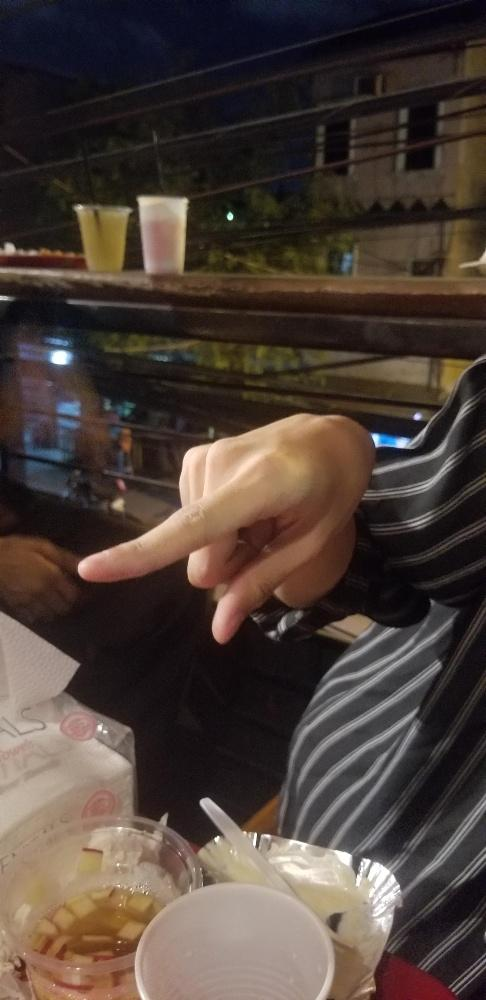z: (73, 405, 378, 649)
